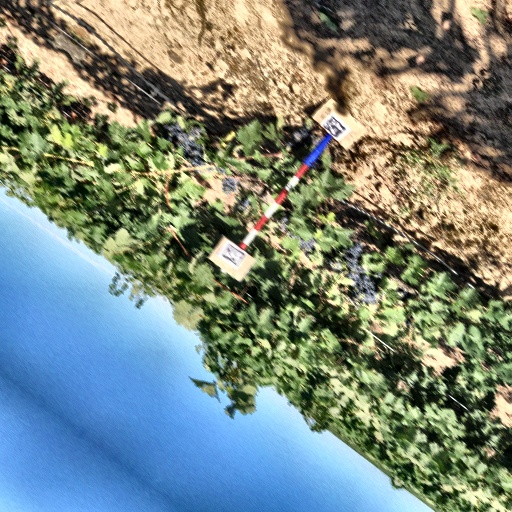QR: (323, 112, 349, 138), (222, 241, 247, 265)
